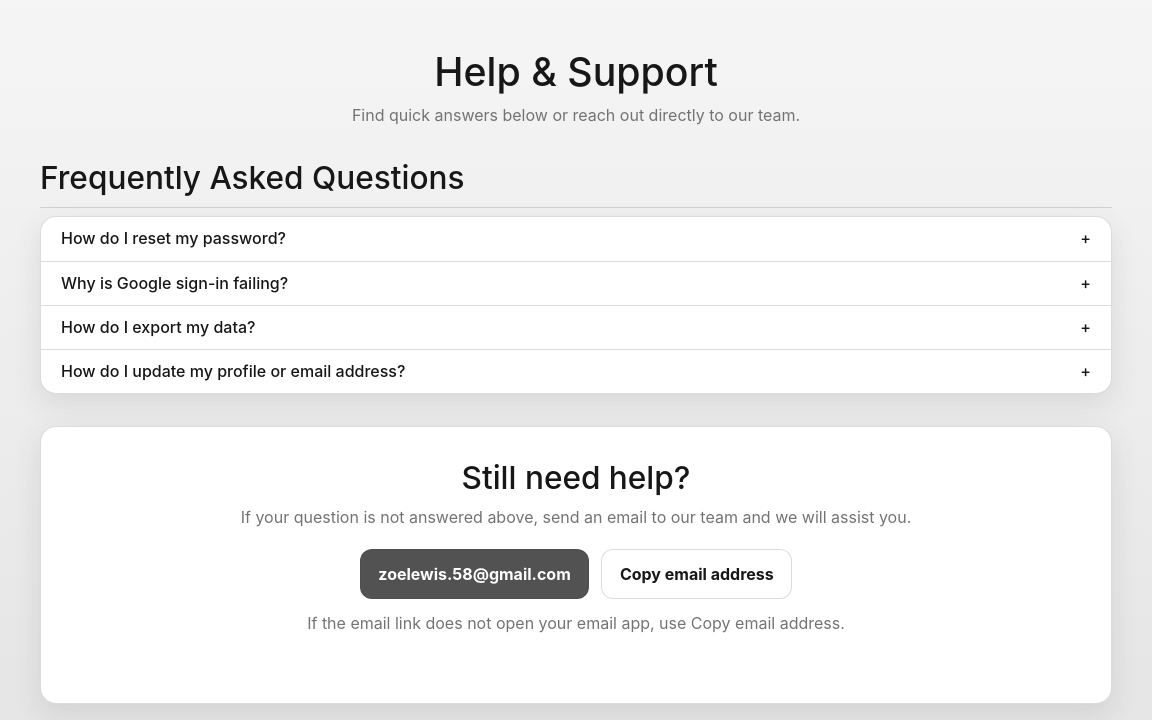
HelpSupport › shows FAQs and expands the selected answer
Click the button "How do I reset my password? +".
click(173, 238)  # box x1=41 y1=217 x2=1111 y2=261
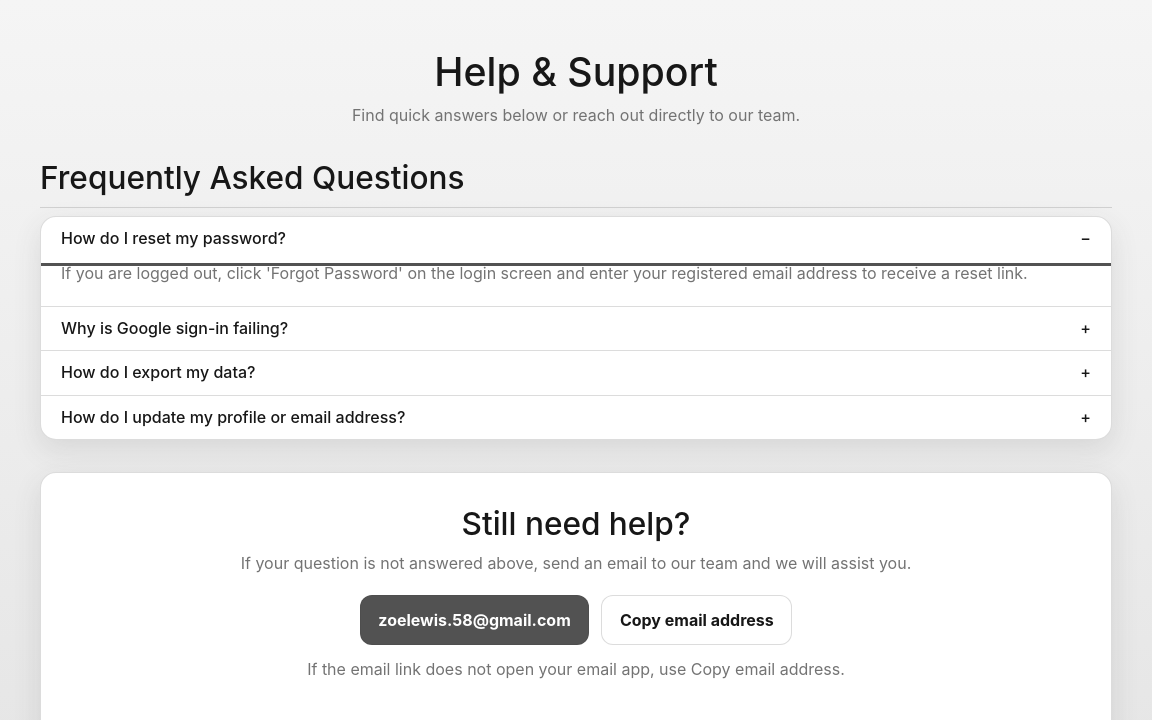
Expected: the text "click 'Forgot Password' on the login screen" is shown, x1=61 y1=263 x2=1028 y2=283
